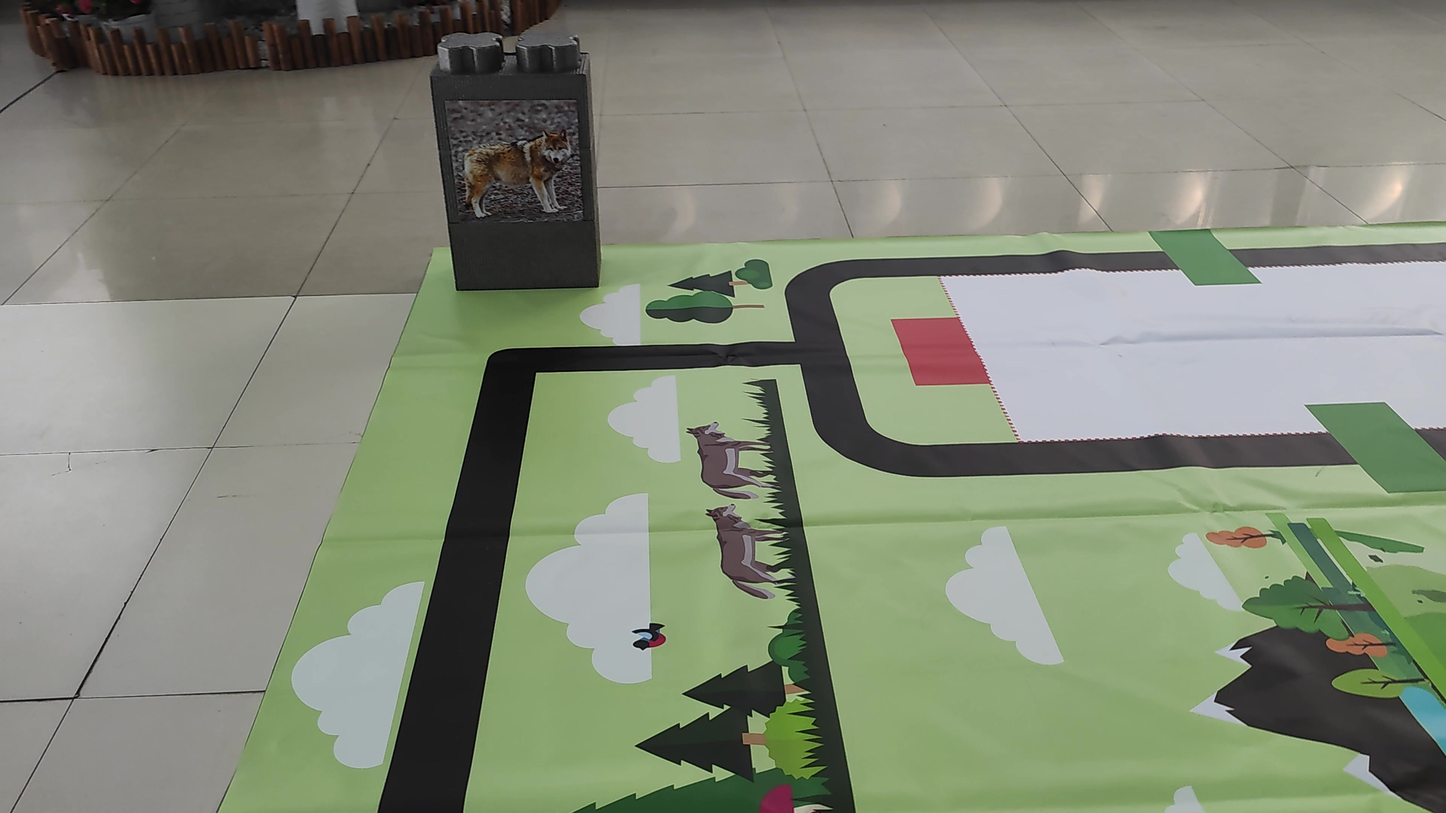wolf: (452, 111, 570, 217)
